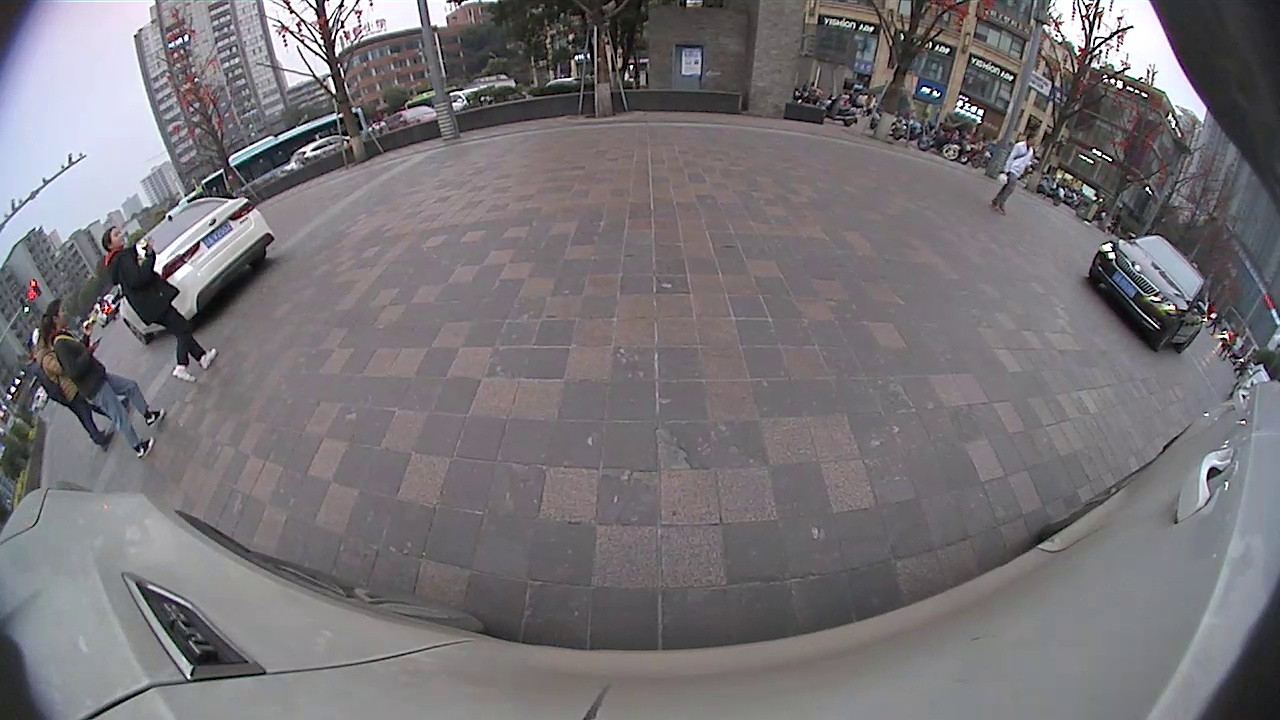bus: (200, 105, 370, 199)
car: (118, 195, 276, 347), (1086, 234, 1211, 354)
front: (1153, 322, 1184, 355), (119, 318, 150, 347)
person: (104, 225, 141, 382), (44, 298, 73, 454), (1013, 130, 1039, 214)
